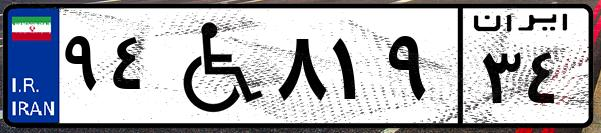1: (330, 28, 385, 110)
3: (475, 38, 525, 113)
4: (525, 38, 570, 115), (110, 28, 158, 98)
8: (270, 28, 330, 110)
9: (385, 28, 445, 110), (57, 26, 110, 100)
ژ (معلولین و جانبازان): (158, 12, 270, 120)
